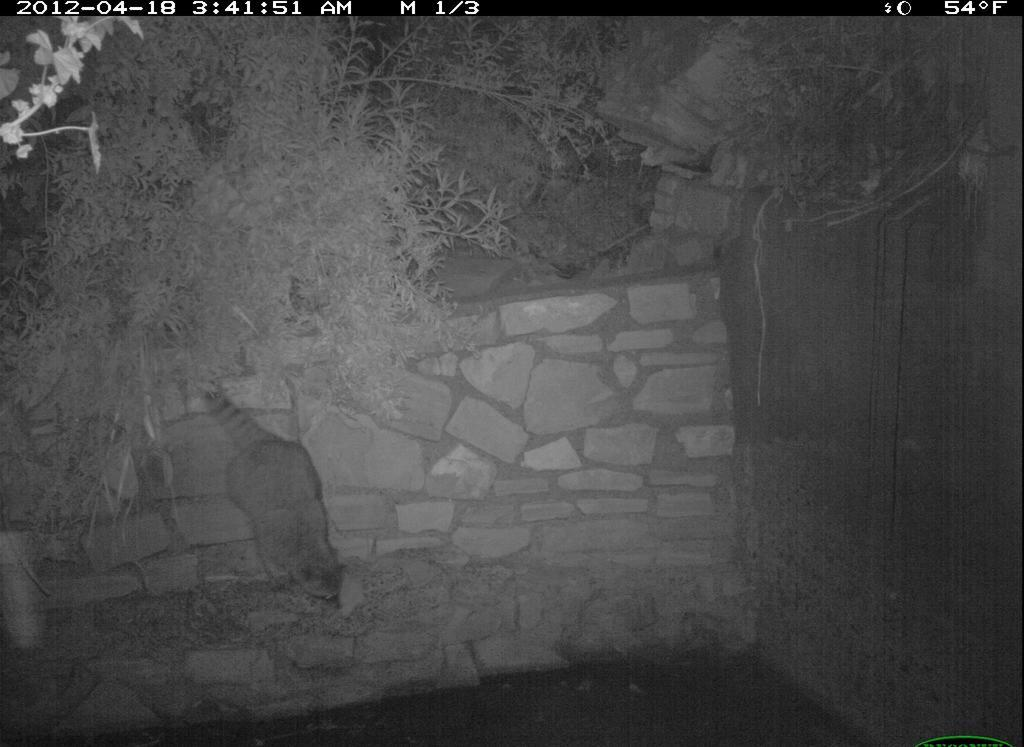raccoon: (193, 381, 361, 624)
